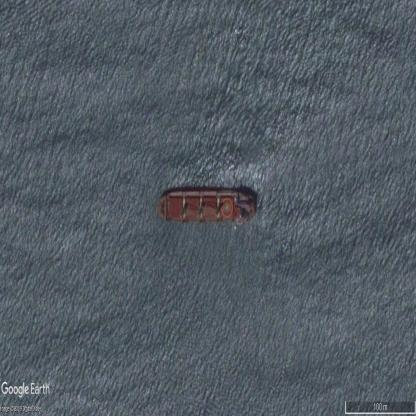ship: (158, 188, 256, 222)
